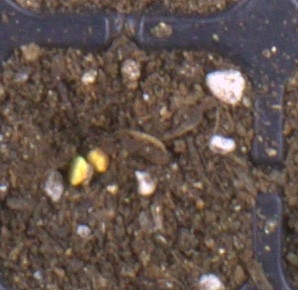chilli seed: (86, 147, 110, 174), (69, 155, 89, 186)
